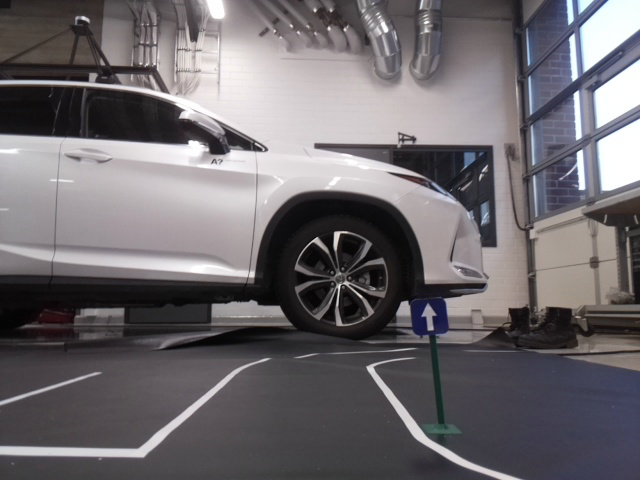OneWay: (413, 300, 449, 335)
